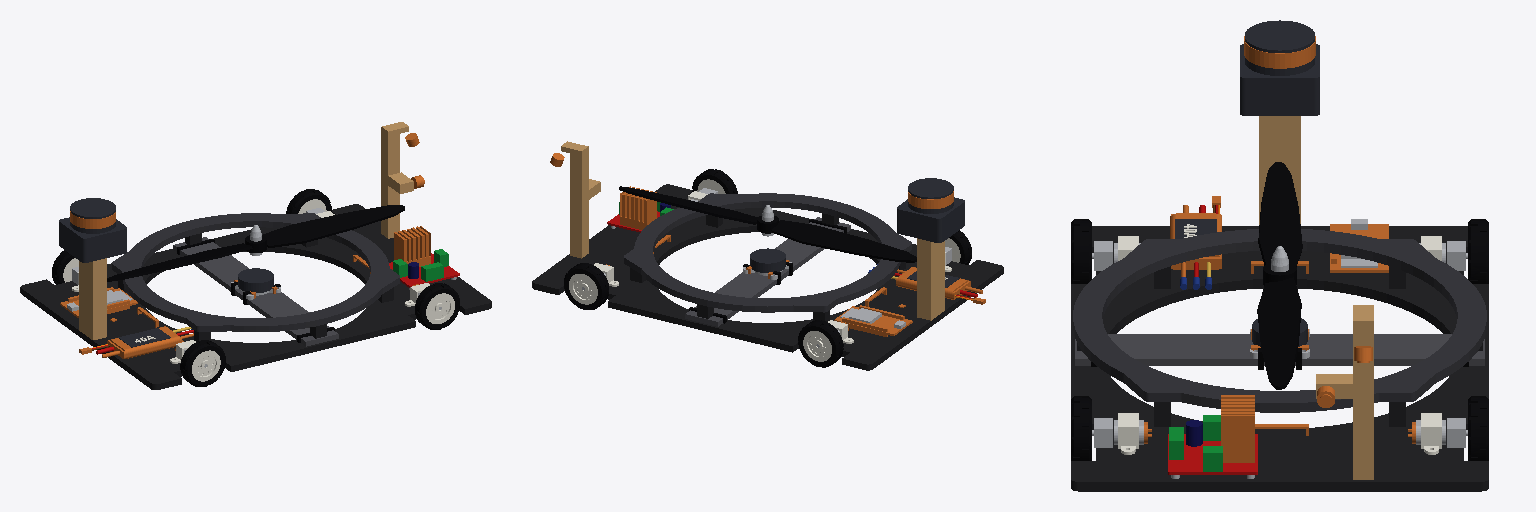
URDF robot description (wcr):
<?xml version="1.0"?>
<!-- Generated by tools/build_proto_webots.py: the WCR prototype (base_link = wall contact plane). Visual only; physics lives in webots/protos/WcrProto.proto. -->
<robot name="wcr">
<material name="c_28_28_2b"><color rgba="0.160 0.160 0.170 1"/></material>
<material name="c_54_54_59"><color rgba="0.330 0.330 0.350 1"/></material>
<material name="c_3d_3d_42"><color rgba="0.240 0.240 0.260 1"/></material>
<material name="c_b7_ba_bf"><color rgba="0.720 0.730 0.750 1"/></material>
<material name="c_33_35_3d"><color rgba="0.200 0.210 0.240 1"/></material>
<material name="c_cc_72_33"><color rgba="0.800 0.450 0.200 1"/></material>
<material name="c_0f_0f_11"><color rgba="0.060 0.060 0.070 1"/></material>
<material name="c_ed_ea_e0"><color rgba="0.930 0.920 0.880 1"/></material>
<material name="c_bf_19_19"><color rgba="0.750 0.100 0.100 1"/></material>
<material name="c_19_99_3f"><color rgba="0.100 0.600 0.250 1"/></material>
<material name="c_19_19_59"><color rgba="0.100 0.100 0.350 1"/></material>
<material name="c_26_3f_8c"><color rgba="0.150 0.250 0.550 1"/></material>
<material name="c_d8_b2_4c"><color rgba="0.850 0.700 0.300 1"/></material>
<material name="c_e5_bf_19"><color rgba="0.900 0.750 0.100 1"/></material>
<material name="c_66_3f_1e"><color rgba="0.400 0.250 0.120 1"/></material>
<material name="c_f2_7f_19"><color rgba="0.950 0.500 0.100 1"/></material>
<material name="c_c6_9e_6b"><color rgba="0.780 0.620 0.420 1"/></material>
<material name="c_11_11_14"><color rgba="0.070 0.070 0.080 1"/></material>
<link name="base_link"><visual><origin xyz="0 0 0.00750" rpy="0 0 0"/><geometry><mesh filename="package://wcr_proto2/meshes/body_0.stl" scale="0.001 0.001 0.001"/></geometry><material name="c_28_28_2b"/></visual><visual><origin xyz="0 0 0.00750" rpy="0 0 0"/><geometry><mesh filename="package://wcr_proto2/meshes/body_1.stl" scale="0.001 0.001 0.001"/></geometry><material name="c_54_54_59"/></visual><visual><origin xyz="0 0 0.00750" rpy="0 0 0"/><geometry><mesh filename="package://wcr_proto2/meshes/body_2.stl" scale="0.001 0.001 0.001"/></geometry><material name="c_3d_3d_42"/></visual><visual><origin xyz="0 0 0.00750" rpy="0 0 0"/><geometry><mesh filename="package://wcr_proto2/meshes/body_3.stl" scale="0.001 0.001 0.001"/></geometry><material name="c_b7_ba_bf"/></visual><visual><origin xyz="0 0 0.00750" rpy="0 0 0"/><geometry><mesh filename="package://wcr_proto2/meshes/body_4.stl" scale="0.001 0.001 0.001"/></geometry><material name="c_33_35_3d"/></visual><visual><origin xyz="0 0 0.00750" rpy="0 0 0"/><geometry><mesh filename="package://wcr_proto2/meshes/body_5.stl" scale="0.001 0.001 0.001"/></geometry><material name="c_cc_72_33"/></visual><visual><origin xyz="0 0 0.00750" rpy="0 0 0"/><geometry><mesh filename="package://wcr_proto2/meshes/body_6.stl" scale="0.001 0.001 0.001"/></geometry><material name="c_0f_0f_11"/></visual><visual><origin xyz="0 0 0.00750" rpy="0 0 0"/><geometry><mesh filename="package://wcr_proto2/meshes/body_7.stl" scale="0.001 0.001 0.001"/></geometry><material name="c_ed_ea_e0"/></visual><visual><origin xyz="0 0 0.00750" rpy="0 0 0"/><geometry><mesh filename="package://wcr_proto2/meshes/body_8.stl" scale="0.001 0.001 0.001"/></geometry><material name="c_bf_19_19"/></visual><visual><origin xyz="0 0 0.00750" rpy="0 0 0"/><geometry><mesh filename="package://wcr_proto2/meshes/body_9.stl" scale="0.001 0.001 0.001"/></geometry><material name="c_19_99_3f"/></visual><visual><origin xyz="0 0 0.00750" rpy="0 0 0"/><geometry><mesh filename="package://wcr_proto2/meshes/body_10.stl" scale="0.001 0.001 0.001"/></geometry><material name="c_19_19_59"/></visual><visual><origin xyz="0 0 0.00750" rpy="0 0 0"/><geometry><mesh filename="package://wcr_proto2/meshes/body_11.stl" scale="0.001 0.001 0.001"/></geometry><material name="c_26_3f_8c"/></visual><visual><origin xyz="0 0 0.00750" rpy="0 0 0"/><geometry><mesh filename="package://wcr_proto2/meshes/body_12.stl" scale="0.001 0.001 0.001"/></geometry><material name="c_d8_b2_4c"/></visual><visual><origin xyz="0 0 0.00750" rpy="0 0 0"/><geometry><mesh filename="package://wcr_proto2/meshes/body_13.stl" scale="0.001 0.001 0.001"/></geometry><material name="c_e5_bf_19"/></visual><visual><origin xyz="0 0 0.00750" rpy="0 0 0"/><geometry><mesh filename="package://wcr_proto2/meshes/body_14.stl" scale="0.001 0.001 0.001"/></geometry><material name="c_66_3f_1e"/></visual><visual><origin xyz="0 0 0.00750" rpy="0 0 0"/><geometry><mesh filename="package://wcr_proto2/meshes/body_15.stl" scale="0.001 0.001 0.001"/></geometry><material name="c_f2_7f_19"/></visual><visual><origin xyz="0 0 0.00750" rpy="0 0 0"/><geometry><mesh filename="package://wcr_proto2/meshes/body_16.stl" scale="0.001 0.001 0.001"/></geometry><material name="c_c6_9e_6b"/></visual></link>
<link name="prop_link"><visual><origin xyz="0 0 0" rpy="0 0 0"/><geometry><mesh filename="package://wcr_proto2/meshes/prop_0.stl" scale="0.001 0.001 0.001"/></geometry><material name="c_0f_0f_11"/></visual><visual><origin xyz="0 0 0" rpy="0 0 0"/><geometry><mesh filename="package://wcr_proto2/meshes/prop_1.stl" scale="0.001 0.001 0.001"/></geometry><material name="c_b7_ba_bf"/></visual></link>
<joint name="prop_joint" type="continuous"><parent link="base_link"/><child link="prop_link"/><origin xyz="0.00000 0.00000 0.05350" rpy="0.00000 0.00000 0.00000"/><axis xyz="0 0 1"/></joint>
<link name="FL_wheel_link"><visual><origin xyz="0 0 0" rpy="0 0 0"/><geometry><mesh filename="package://wcr_proto2/meshes/wheel_0.stl" scale="0.001 0.001 0.001"/></geometry><material name="c_11_11_14"/></visual><visual><origin xyz="0 0 0" rpy="0 0 0"/><geometry><mesh filename="package://wcr_proto2/meshes/wheel_1.stl" scale="0.001 0.001 0.001"/></geometry><material name="c_ed_ea_e0"/></visual></link>
<joint name="FL_wheel_joint" type="continuous"><parent link="base_link"/><child link="FL_wheel_link"/><origin xyz="0.10000 0.09500 0.01750" rpy="0.00000 0.00000 0.00000"/><axis xyz="0 1 0"/></joint>
<link name="FR_wheel_link"><visual><origin xyz="0 0 0" rpy="0 0 3.14159"/><geometry><mesh filename="package://wcr_proto2/meshes/wheel_0.stl" scale="0.001 0.001 0.001"/></geometry><material name="c_11_11_14"/></visual><visual><origin xyz="0 0 0" rpy="0 0 3.14159"/><geometry><mesh filename="package://wcr_proto2/meshes/wheel_1.stl" scale="0.001 0.001 0.001"/></geometry><material name="c_ed_ea_e0"/></visual></link>
<joint name="FR_wheel_joint" type="continuous"><parent link="base_link"/><child link="FR_wheel_link"/><origin xyz="0.10000 -0.09500 0.01750" rpy="0.00000 0.00000 0.00000"/><axis xyz="0 1 0"/></joint>
<link name="BL_wheel_link"><visual><origin xyz="0 0 0" rpy="0 0 0"/><geometry><mesh filename="package://wcr_proto2/meshes/wheel_0.stl" scale="0.001 0.001 0.001"/></geometry><material name="c_11_11_14"/></visual><visual><origin xyz="0 0 0" rpy="0 0 0"/><geometry><mesh filename="package://wcr_proto2/meshes/wheel_1.stl" scale="0.001 0.001 0.001"/></geometry><material name="c_ed_ea_e0"/></visual></link>
<joint name="BL_wheel_joint" type="continuous"><parent link="base_link"/><child link="BL_wheel_link"/><origin xyz="-0.10000 0.09500 0.01750" rpy="0.00000 0.00000 0.00000"/><axis xyz="0 1 0"/></joint>
<link name="BR_wheel_link"><visual><origin xyz="0 0 0" rpy="0 0 3.14159"/><geometry><mesh filename="package://wcr_proto2/meshes/wheel_0.stl" scale="0.001 0.001 0.001"/></geometry><material name="c_11_11_14"/></visual><visual><origin xyz="0 0 0" rpy="0 0 3.14159"/><geometry><mesh filename="package://wcr_proto2/meshes/wheel_1.stl" scale="0.001 0.001 0.001"/></geometry><material name="c_ed_ea_e0"/></visual></link>
<joint name="BR_wheel_joint" type="continuous"><parent link="base_link"/><child link="BR_wheel_link"/><origin xyz="-0.10000 -0.09500 0.01750" rpy="0.00000 0.00000 0.00000"/><axis xyz="0 1 0"/></joint>
<link name="lidar_link"/>
<link name="imu_link"/>
<link name="wall_camera_link"/>
<link name="wall_camera_optical"/>
<link name="front_camera_link"/>
<link name="front_camera_optical"/>
<joint name="lidar_joint" type="fixed"><parent link="base_link"/><child link="lidar_link"/><origin xyz="-0.13900 0.00000 0.11000" rpy="0.00000 0.00000 0.00000"/></joint>
<joint name="imu_joint" type="fixed"><parent link="base_link"/><child link="imu_link"/><origin xyz="-0.11800 0.00600 0.01650" rpy="0.00000 0.00000 0.00000"/></joint>
<joint name="wall_camera_joint" type="fixed"><parent link="base_link"/><child link="wall_camera_link"/><origin xyz="0.15500 0.04000 0.09000" rpy="0.00000 1.22173 0.00000"/></joint>
<joint name="wall_camera_optical_joint" type="fixed"><parent link="wall_camera_link"/><child link="wall_camera_optical"/><origin xyz="0.00000 0.00000 0.00000" rpy="-1.57080 0.00000 -1.57080"/></joint>
<joint name="front_camera_joint" type="fixed"><parent link="base_link"/><child link="front_camera_link"/><origin xyz="0.14600 0.02200 0.06000" rpy="0.00000 0.00000 0.00000"/></joint>
<joint name="front_camera_optical_joint" type="fixed"><parent link="front_camera_link"/><child link="front_camera_optical"/><origin xyz="0.00000 0.00000 0.00000" rpy="-1.57080 0.00000 -1.57080"/></joint>
</robot>

--- What the picture shows (computed from the rendered views, not written in the file) ---
The picture shows the robot from 3 angles, left to right: view 1: azimuth 30°, elevation 25°; view 2: azimuth 150°, elevation 25°; view 3: azimuth 270°, elevation 25°; orthographic projection.
Model wcr with 12 links and 11 joints (5 continuous, 6 fixed), rooted at base_link, posed all joints at 0.
Visible links, largest first — view 1: base_link, prop_link, BR_wheel_link, FR_wheel_link, FL_wheel_link, BL_wheel_link; view 2: base_link, prop_link, BL_wheel_link, FL_wheel_link, FR_wheel_link, BR_wheel_link; view 3: base_link, prop_link, FL_wheel_link, FR_wheel_link, BL_wheel_link, BR_wheel_link.
Link boxes in pixels (box(x1,y1,x2,y2)): base_link: box(20, 122, 491, 389); prop_link: box(107, 205, 404, 281); BR_wheel_link: box(180, 340, 225, 386); FR_wheel_link: box(415, 283, 459, 329); FL_wheel_link: box(286, 189, 331, 213); BL_wheel_link: box(52, 250, 78, 284); base_link: box(532, 141, 1003, 370); prop_link: box(619, 186, 916, 262); BL_wheel_link: box(798, 320, 843, 367); FL_wheel_link: box(564, 263, 608, 309); FR_wheel_link: box(692, 169, 737, 193); BR_wheel_link: box(945, 230, 971, 264); base_link: box(1071, 20, 1488, 491); prop_link: box(1257, 162, 1302, 389); FL_wheel_link: box(1468, 396, 1488, 460); FR_wheel_link: box(1071, 396, 1091, 460); BL_wheel_link: box(1468, 219, 1488, 283); BR_wheel_link: box(1071, 219, 1091, 283).
Bounding box of the posed robot: 0.329 × 0.2 × 0.1155 m (x, y, z).
Meshes: 21 distinct files referenced, 26 mesh visuals loaded (20 binary STL); not drawn: 1 (reference not matched to a file when rendering).
